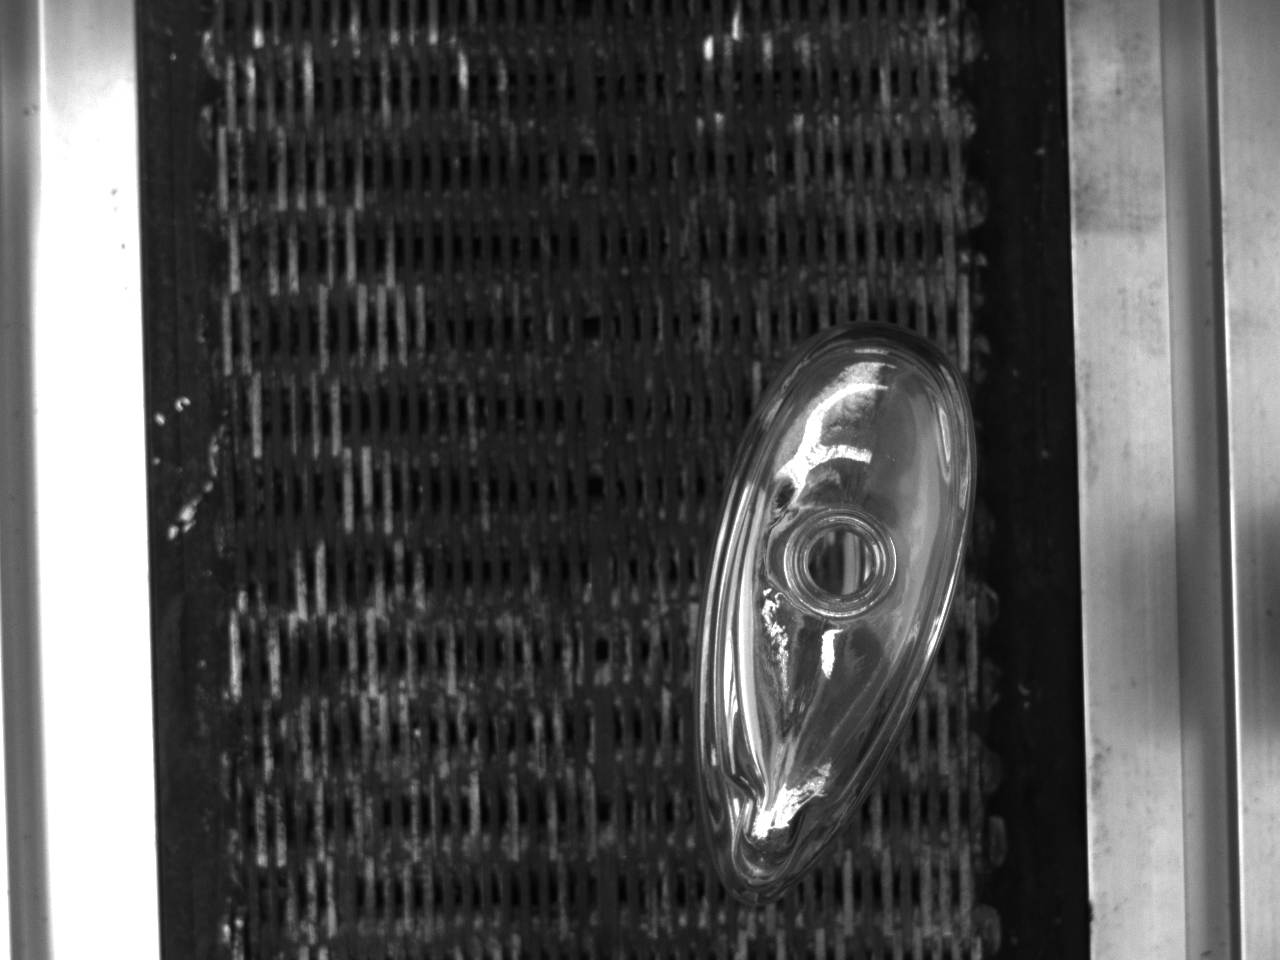bottleneck: (784, 511, 897, 618)
